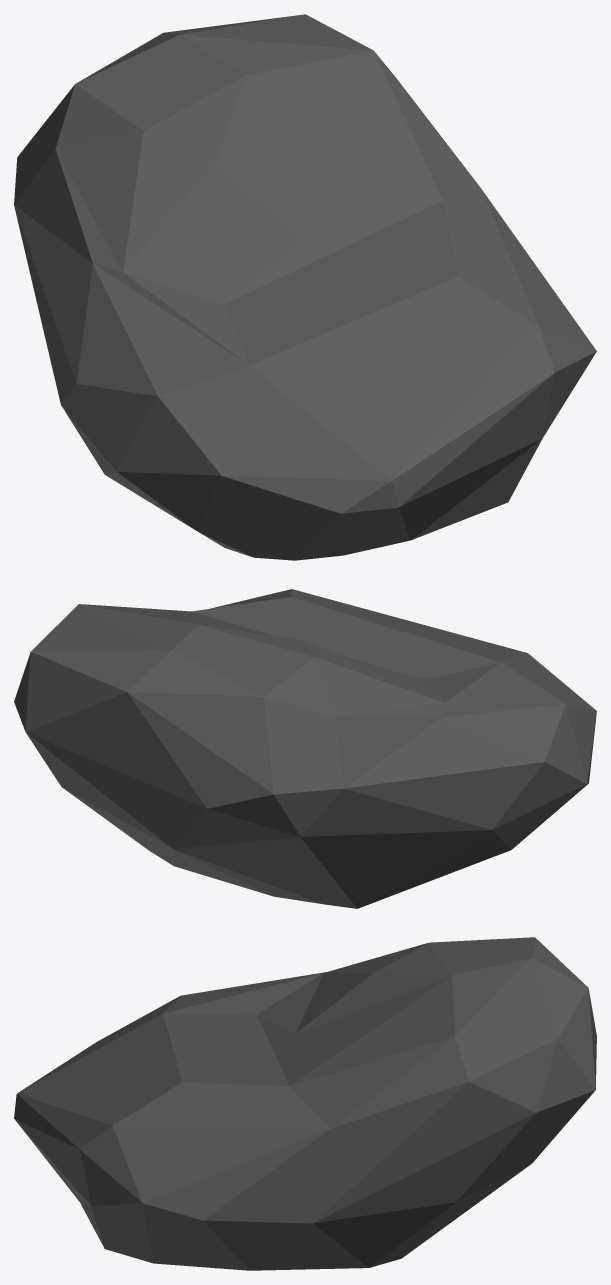
The model's file is small rock2.fbx.
The picture shows the model from 3 angles, top to bottom: view 1: azimuth 30°, elevation 25°; view 2: azimuth 150°, elevation 25°; view 3: azimuth 270°, elevation 25°; orthographic projection. The views are drawn at different scales.
Visible parts, largest first — view 1: rocksmall3_LOD0; view 2: rocksmall3_LOD0; view 3: rocksmall3_LOD0.
Part boxes in pixels (x1,y1,x2,y2): rocksmall3_LOD0: [14, 14, 596, 560]; rocksmall3_LOD0: [14, 589, 596, 908]; rocksmall3_LOD0: [14, 937, 596, 1270].
Size of what is drawn, in the model's own units: 3.05 by 1.9 by 3.86.
